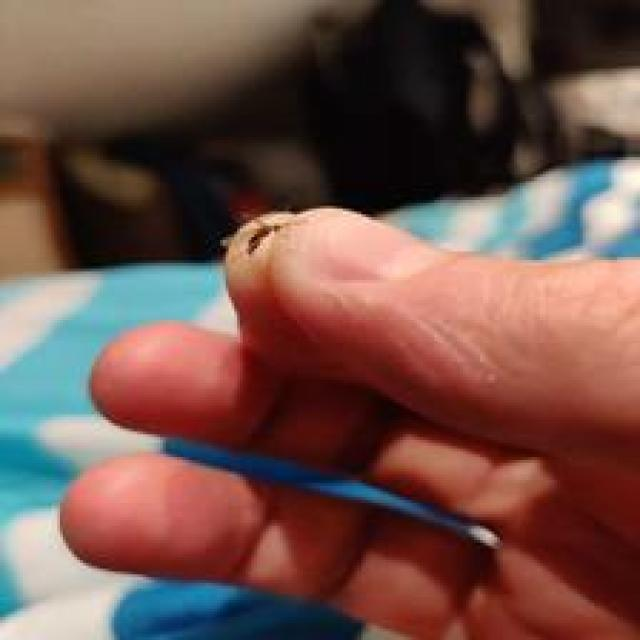Culex: (36, 412, 504, 554)
